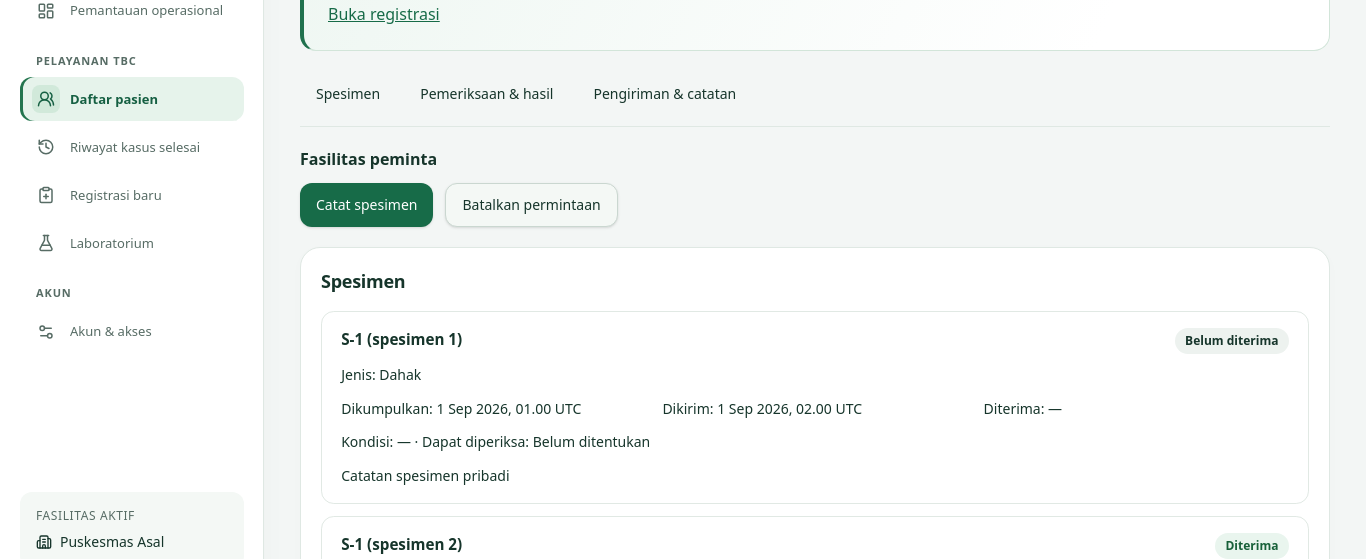
Test: an action form can only be discarded through explicit inline confirmation
(page scrolled)
Click the button "Catat spesimen" at (367,205), box [300,183,434,227]
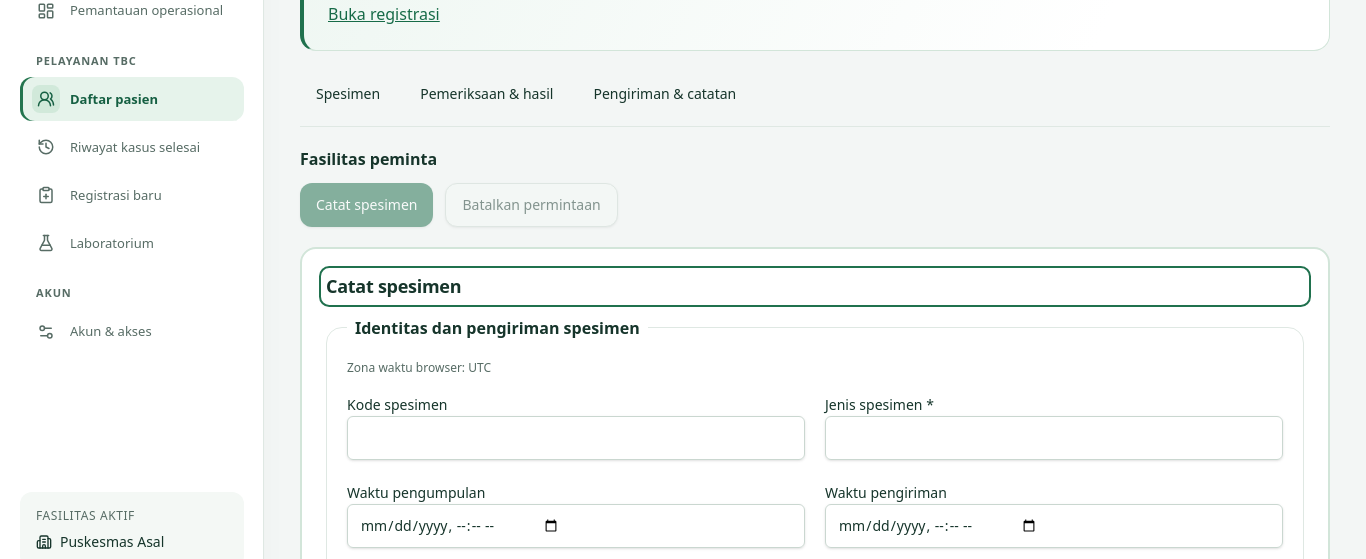
Type "Draft specimen" into the field labelled "Jenis spesimen *" at (1054,438), box [825,416,1283,460]
(page scrolled)
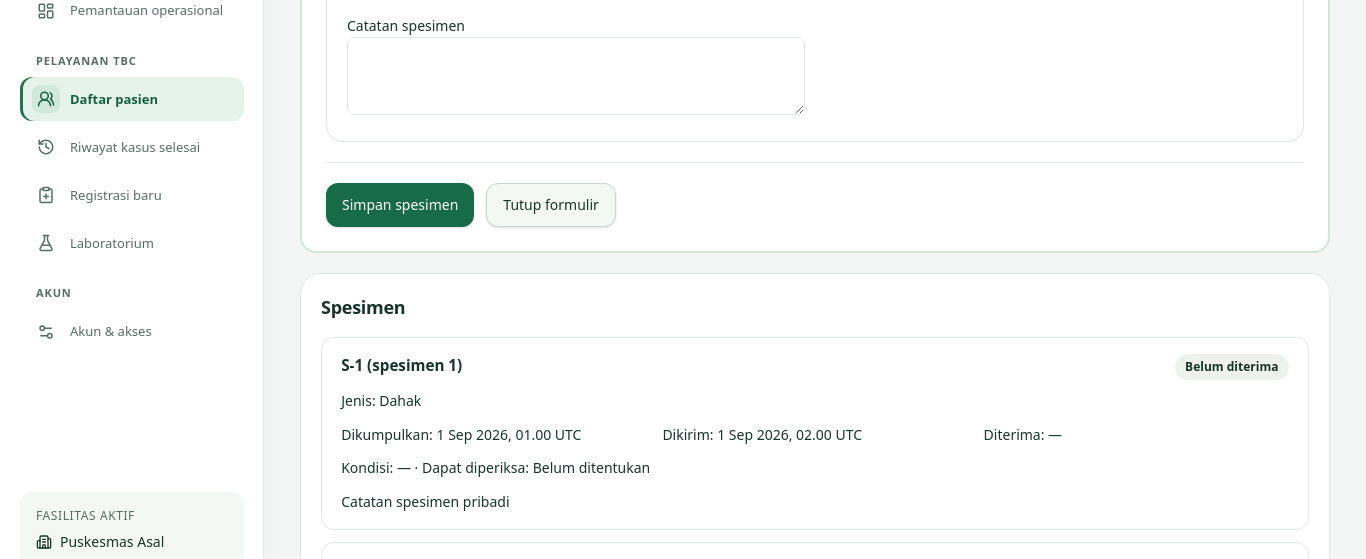
Click the button "Tutup formulir" at (551,205), box [486,183,616,227]
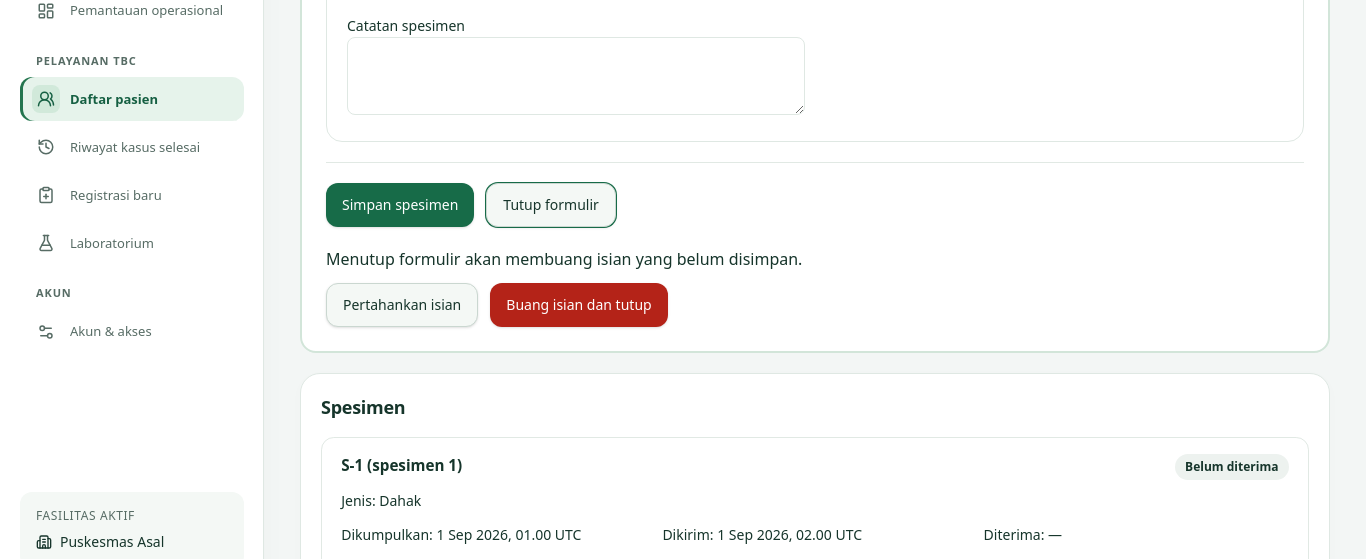
Click the button "Pertahankan isian" at (402,305), box [326,283,478,327]
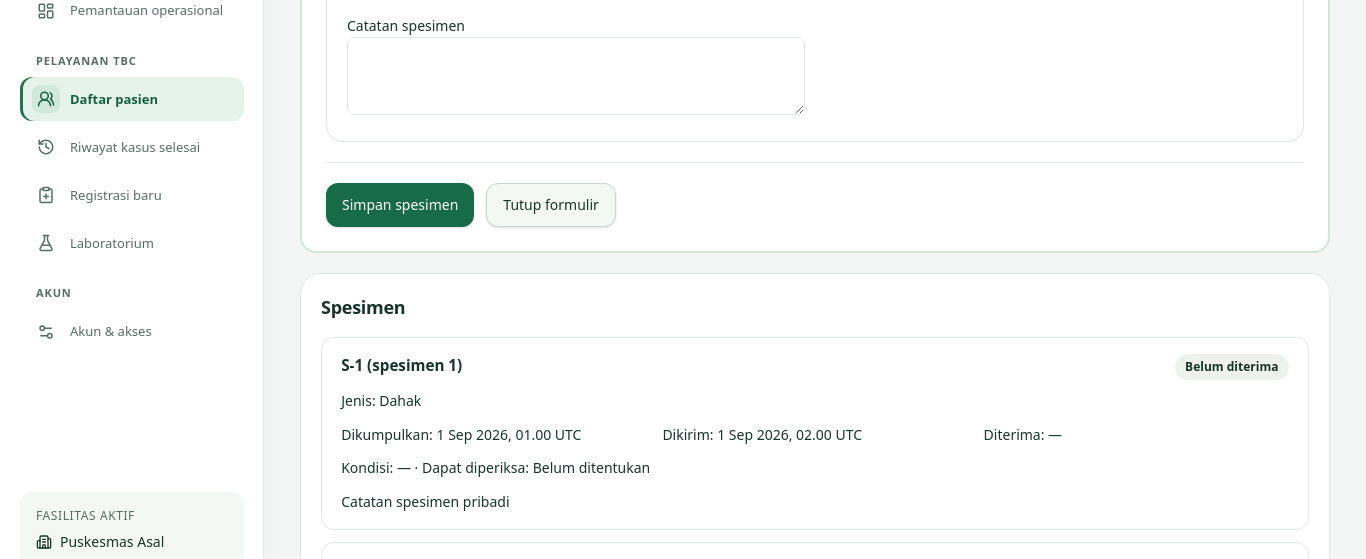
Click the button "Tutup formulir" at (551,205), box [486,183,616,227]
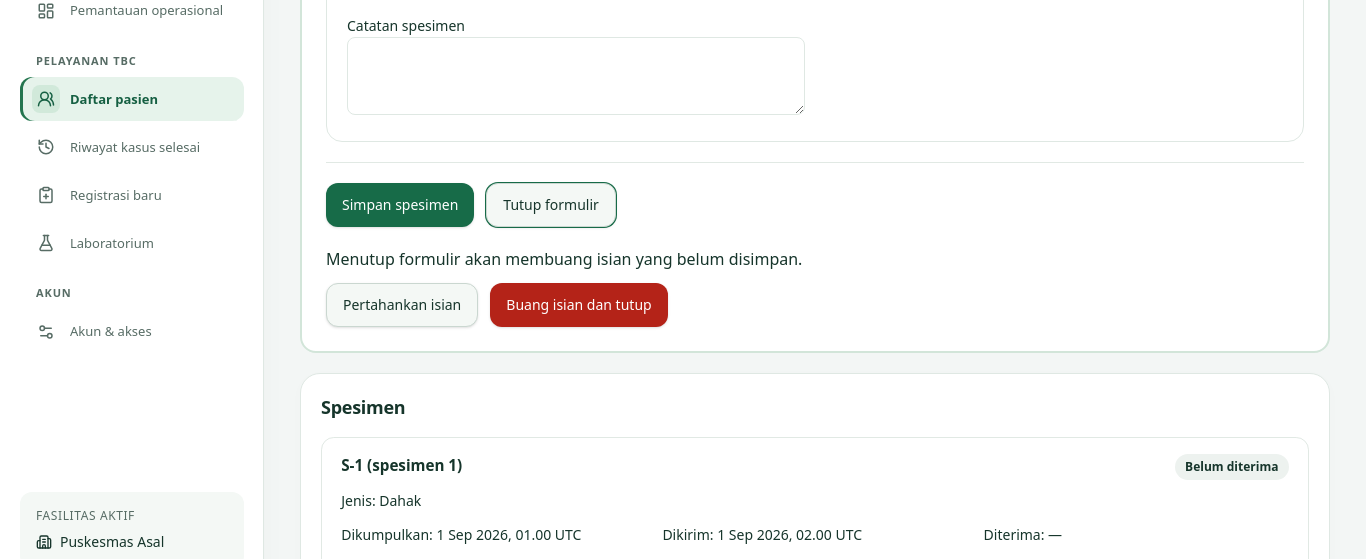
Click the button "Buang isian dan tutup" at (579,305), box [490,283,668,327]
(page scrolled)
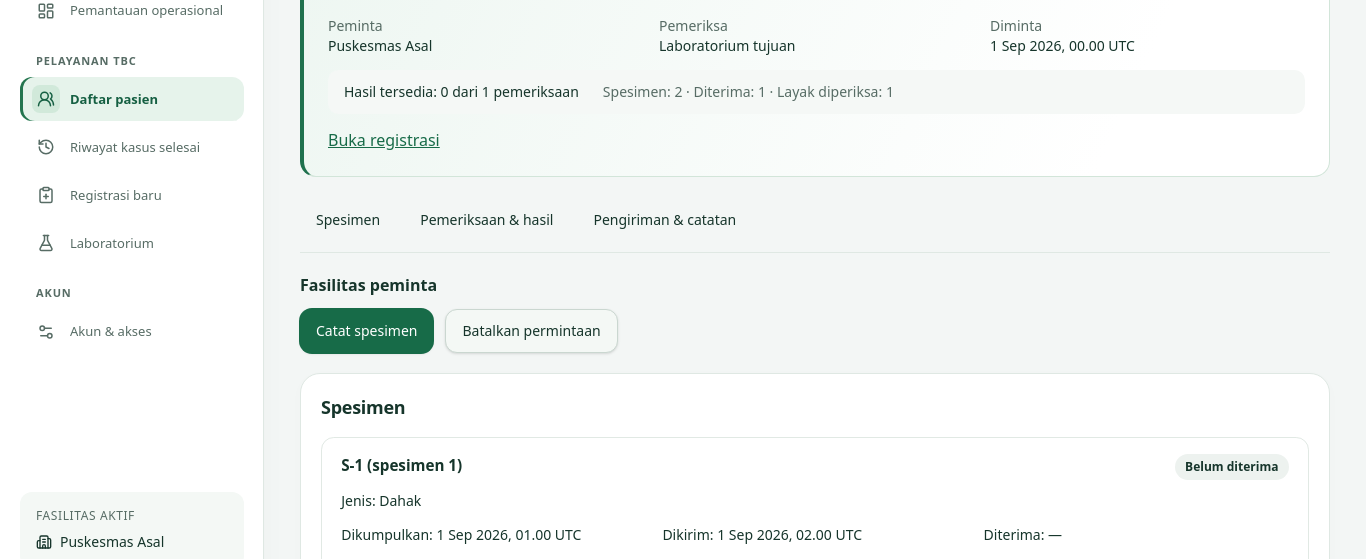
Expected: the label labelled "Jenis spesimen" is not shown
Expected: the button "Catat spesimen" is enabled, [300,309,434,353]
